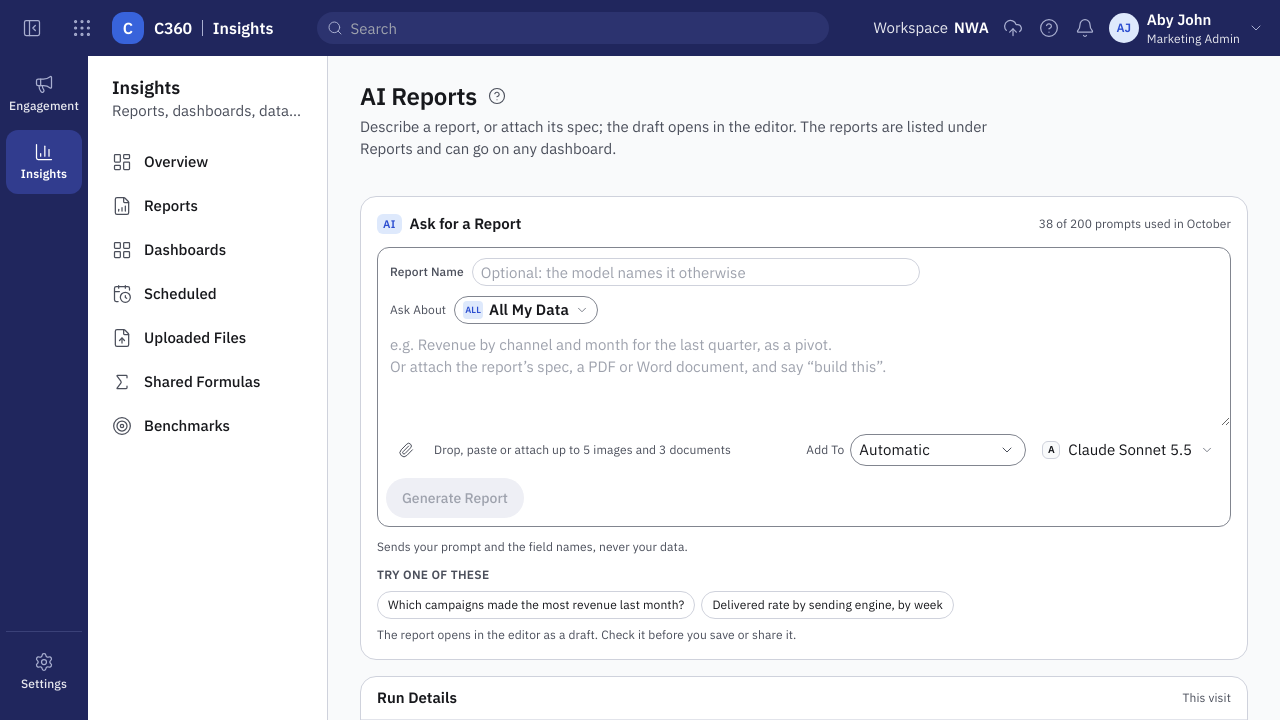
Test: Ask for a Report: Add To files the draft, which says so
Select "Sales" in the dropdown labelled "Add To" at (938, 450), box [850,434,1026,466]
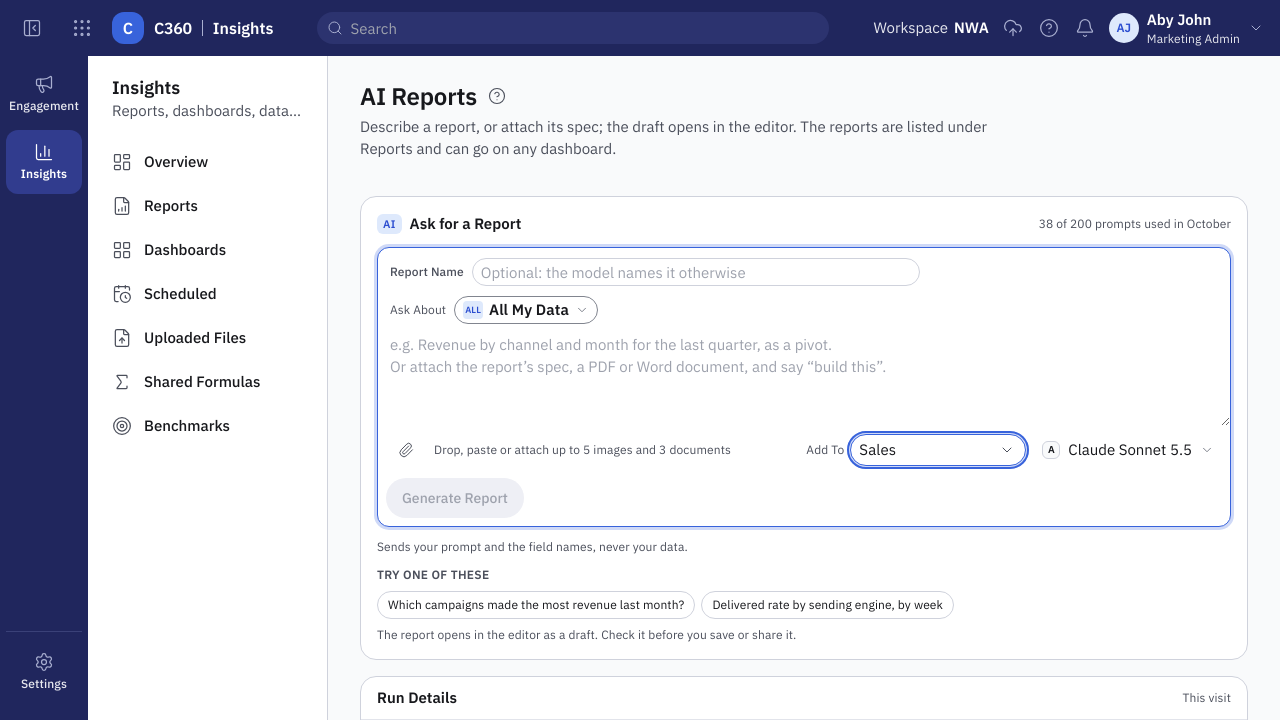
Type "Sent and delivered by campaign" into the text box named "What do you want to see?" at (804, 375), box [378,324,1230,426]
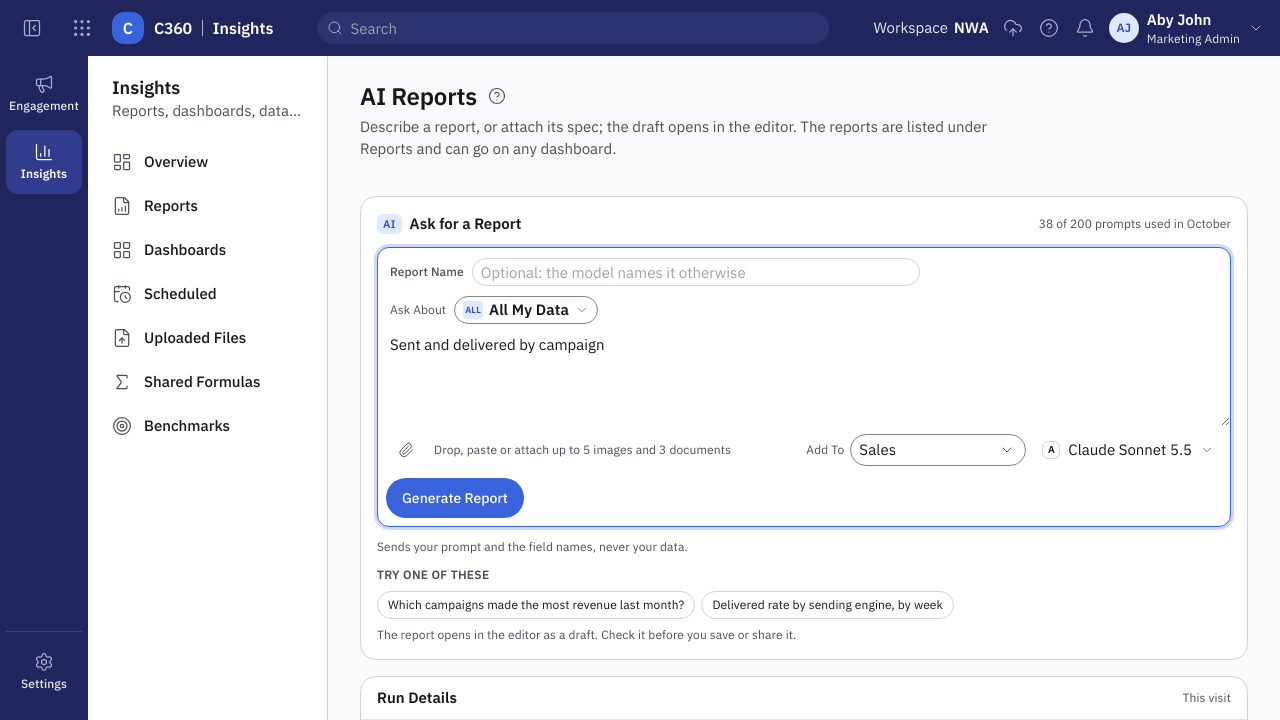
Click the button "Generate Report" at (455, 498), box [386,478,524,518]
(page scrolled)
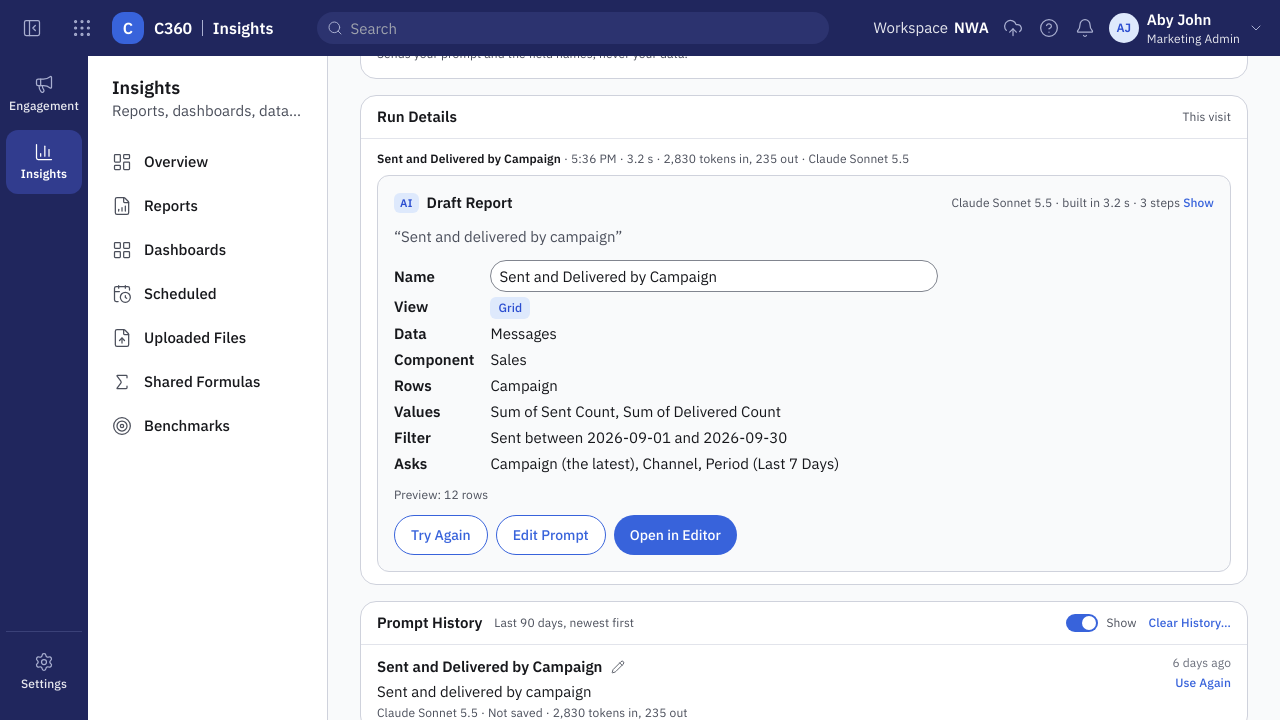
Expected: the text "Sales" is shown, [490,350,527,369]
